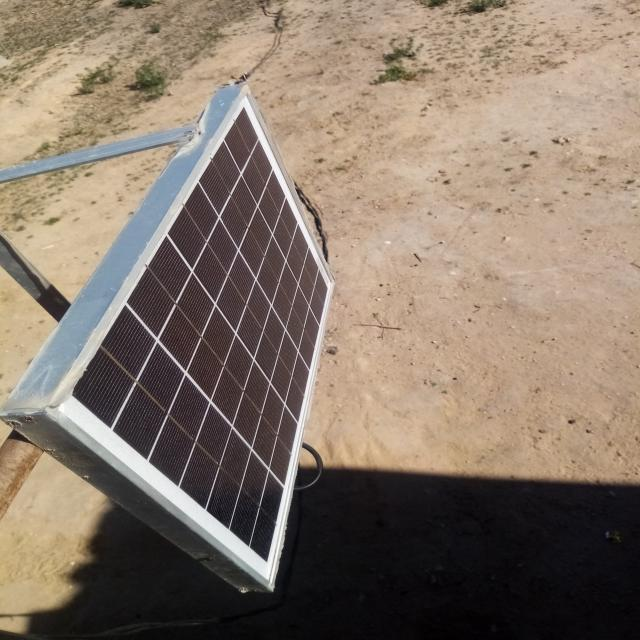no faulty: (43, 91, 336, 586)
